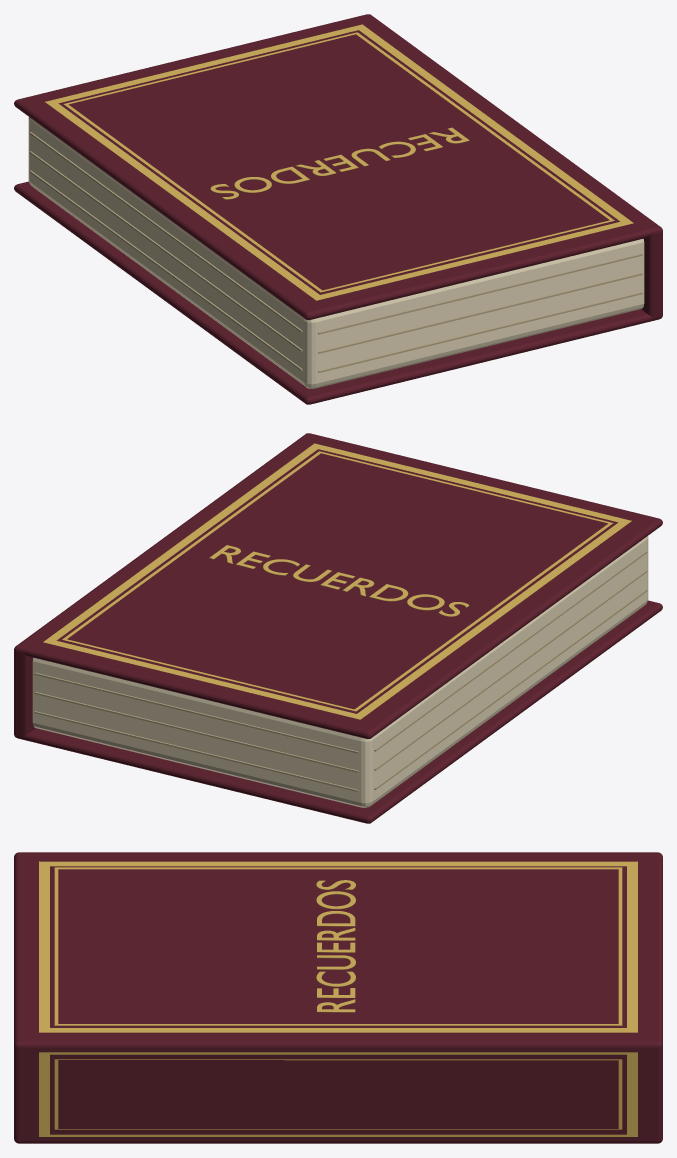
File: Libro_Teresa.fbx
3 views of the same model, one above another, from view 1: azimuth 30°, elevation 25°; view 2: azimuth 150°, elevation 25°; view 3: azimuth 270°, elevation 25° (orthographic). The views are drawn at different scales.
Visible parts, largest first — view 1: Tapa_superior, Paginas, Tapa_inferior, Adorno_ext_superior, Lomo, Adorno_int_superior, Linea_paginas_costado, Linea_paginas_superior, Text; view 2: Tapa_superior, Paginas, Tapa_inferior, Adorno_ext_superior, Lomo, Adorno_int_superior, Linea_paginas_costado, Linea_paginas_inferior, Text; view 3: Tapa_superior, Lomo, Adorno_ext_superior, Adorno_ext_lateral, Adorno_int_superior, Text, Adorno_int_lateral.
Part boxes in pixels (box(x1,y1,x2,y2)): Tapa_superior: box(14, 14, 661, 320); Paginas: box(28, 117, 644, 388); Tapa_inferior: box(14, 181, 661, 404); Adorno_ext_superior: box(45, 24, 633, 300); Lomo: box(361, 14, 662, 318); Adorno_int_superior: box(63, 32, 614, 292); Linea_paginas_costado: box(29, 132, 302, 370); Linea_paginas_superior: box(318, 253, 642, 372); Text: box(210, 127, 469, 199); Tapa_superior: box(15, 435, 662, 739); Paginas: box(32, 536, 648, 807); Tapa_inferior: box(14, 600, 662, 823); Adorno_ext_superior: box(43, 443, 631, 719); Lomo: box(14, 433, 315, 738); Adorno_int_superior: box(62, 451, 613, 711); Linea_paginas_costado: box(374, 551, 647, 789); Linea_paginas_inferior: box(34, 672, 358, 791); Text: box(209, 545, 469, 616); Tapa_superior: box(14, 852, 662, 1047); Lomo: box(14, 1037, 662, 1143); Adorno_ext_superior: box(39, 861, 637, 1032); Adorno_ext_lateral: box(39, 1052, 637, 1136); Adorno_int_superior: box(54, 867, 622, 1025); Text: box(316, 880, 355, 1012); Adorno_int_lateral: box(54, 1059, 622, 1129).
Bounding box in the file's own units: 146 × 36.6 × 208.
